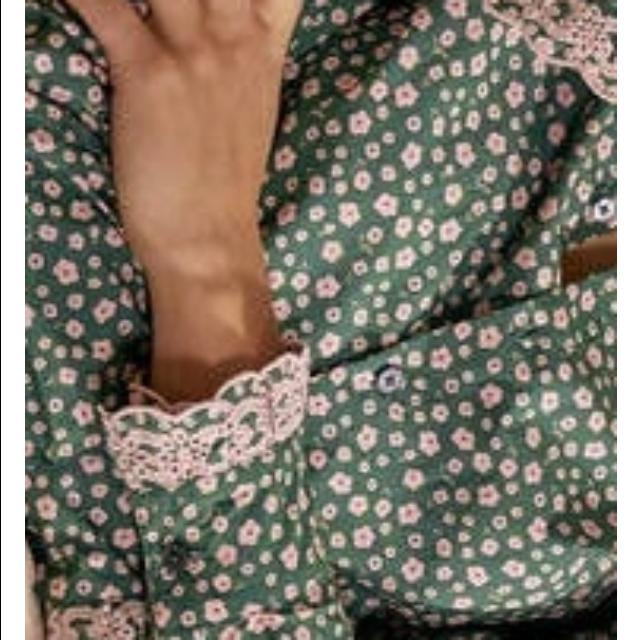cotton: (334, 0, 616, 640)
